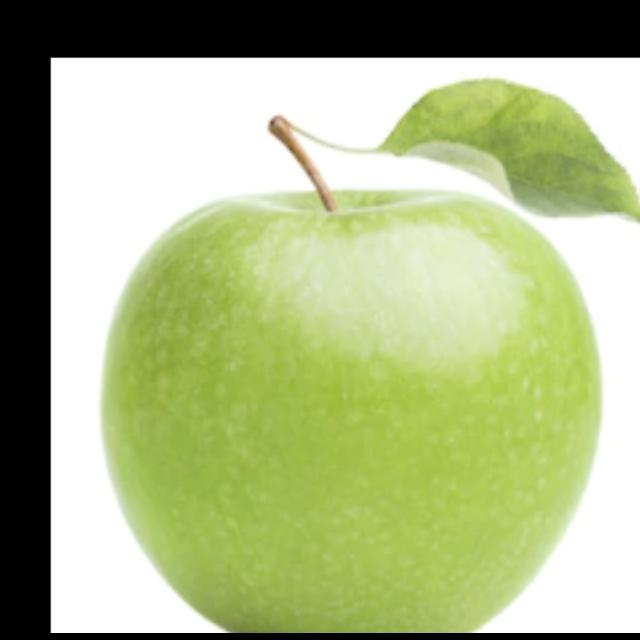Apel Segar: (89, 169, 621, 633)
